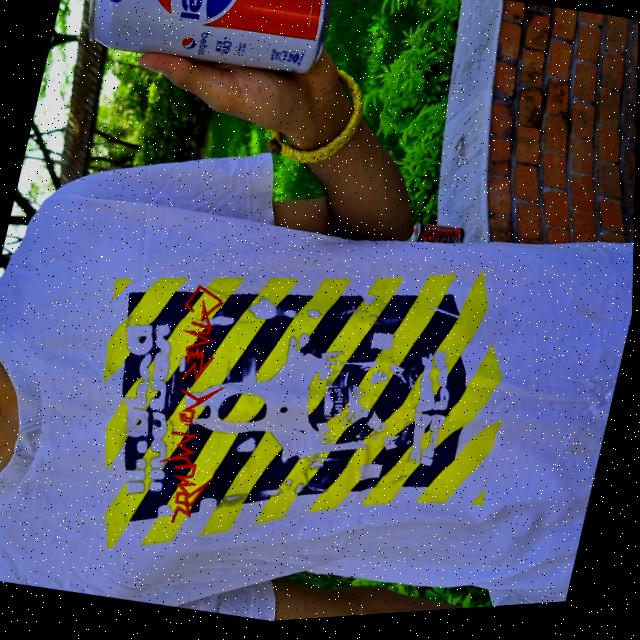Pepsi Retro: (72, 0, 336, 96)
